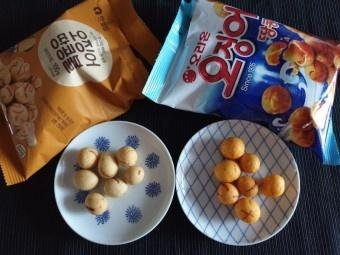snack: (141, 0, 340, 167), (0, 0, 149, 186)
